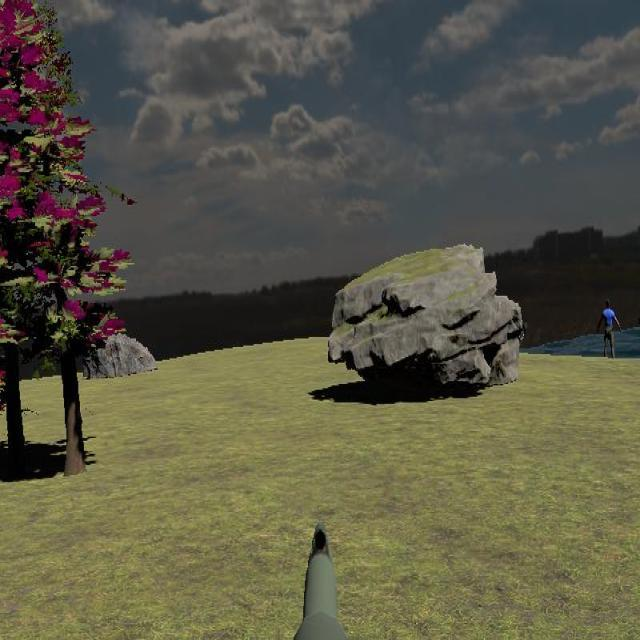Human: (597, 298, 621, 362)
